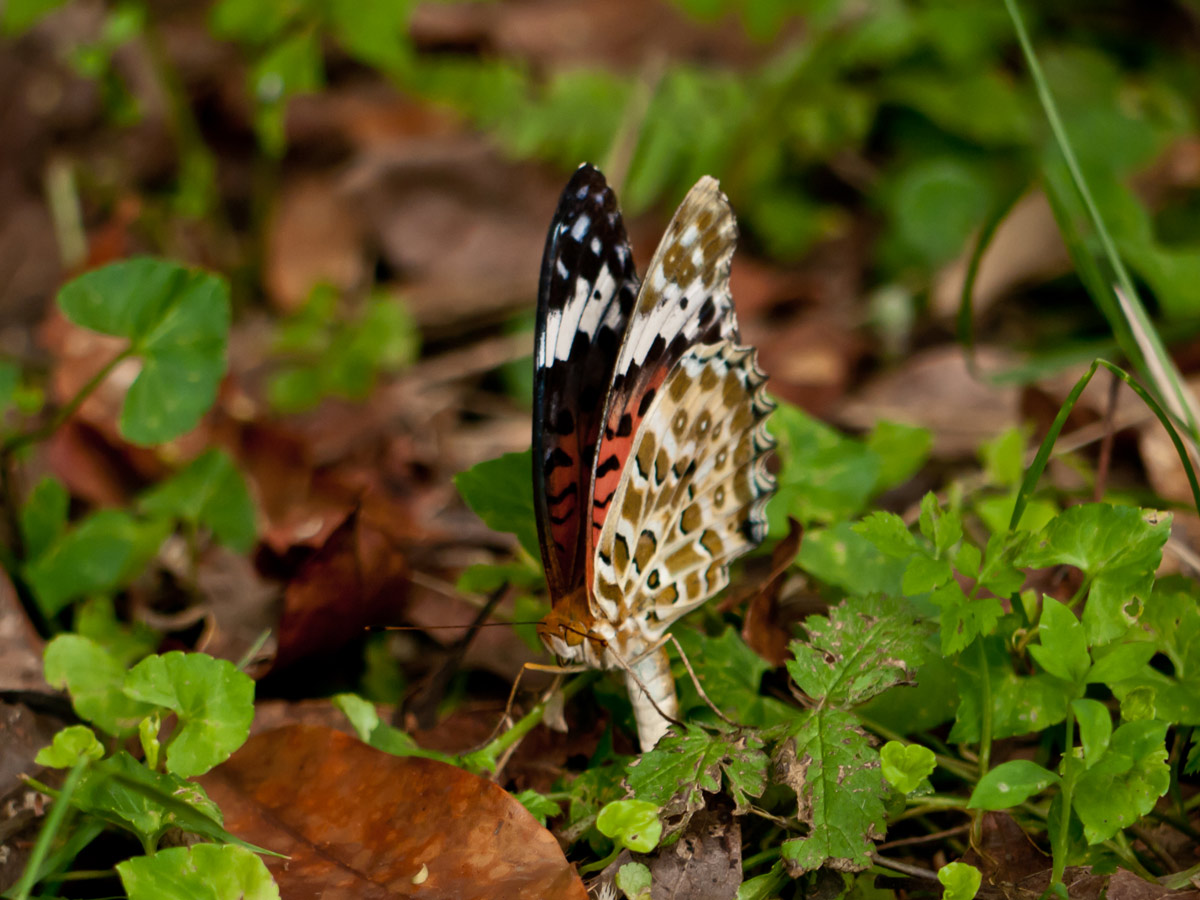Argyreus hyperbius: (336, 151, 783, 753)
butterfly: (338, 153, 785, 755)
